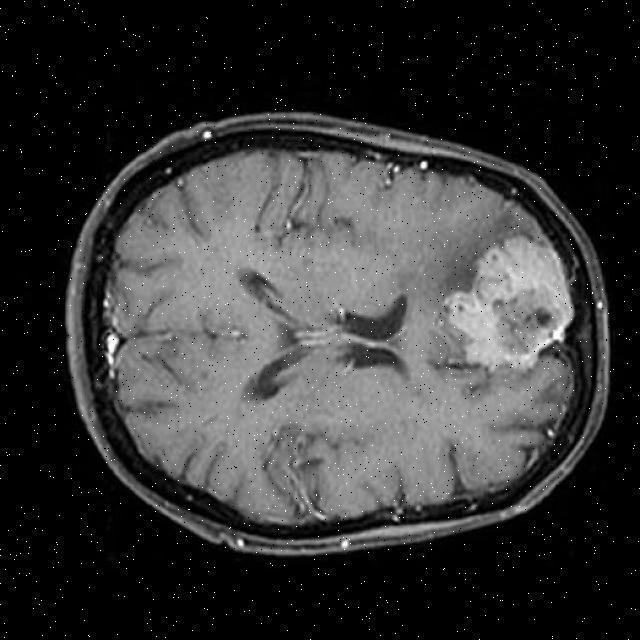Meningioma: (445, 236, 573, 371)
